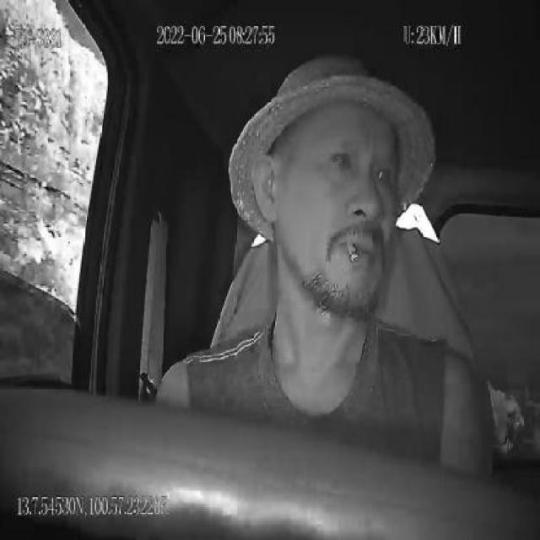smoking: (346, 236, 359, 264)
